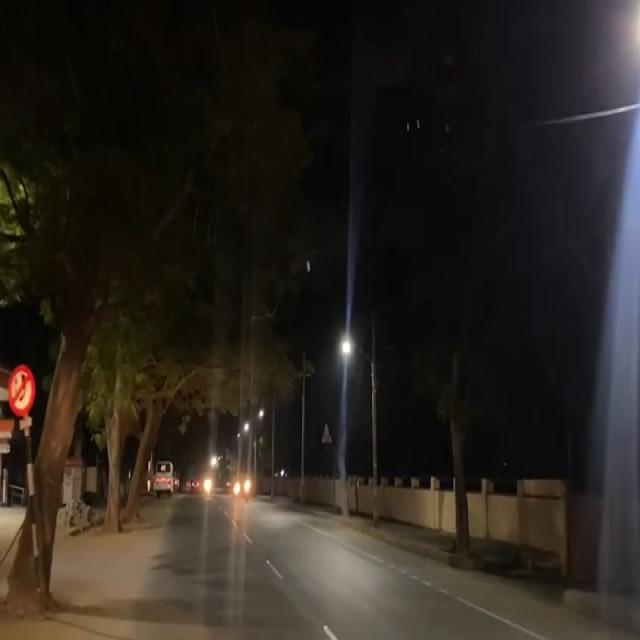bien_cam: (6, 361, 36, 416)
